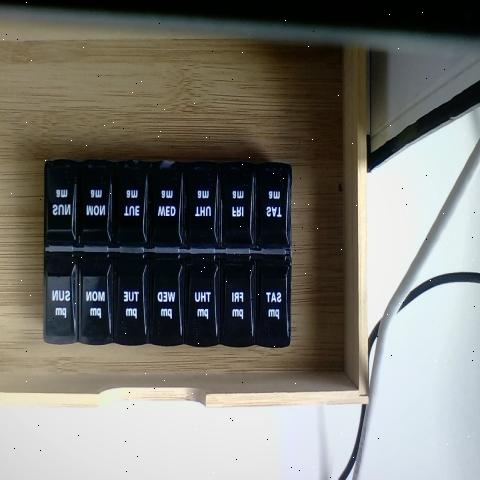FRI-am: (220, 162, 253, 250)
FRI-pm: (218, 253, 253, 345)
MON-am: (78, 162, 113, 248)
MON-pm: (80, 254, 112, 344)
SAT-am: (253, 165, 291, 252)
SAT-pm: (255, 256, 290, 347)
SUN-am: (45, 160, 78, 246)
SUN-pm: (44, 252, 77, 343)
THU-am: (182, 158, 218, 250)
THU-pm: (182, 252, 215, 343)
TUE-am: (114, 164, 149, 252)
TUE-pm: (112, 253, 146, 345)
WED-am: (148, 160, 182, 255)
WED-pm: (150, 254, 181, 343)
